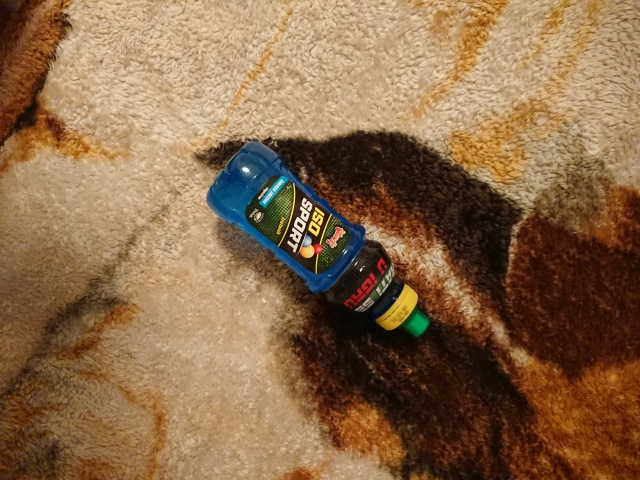Vindi Iso Sport Forest Strawberries 500mL: (204, 138, 433, 340)
